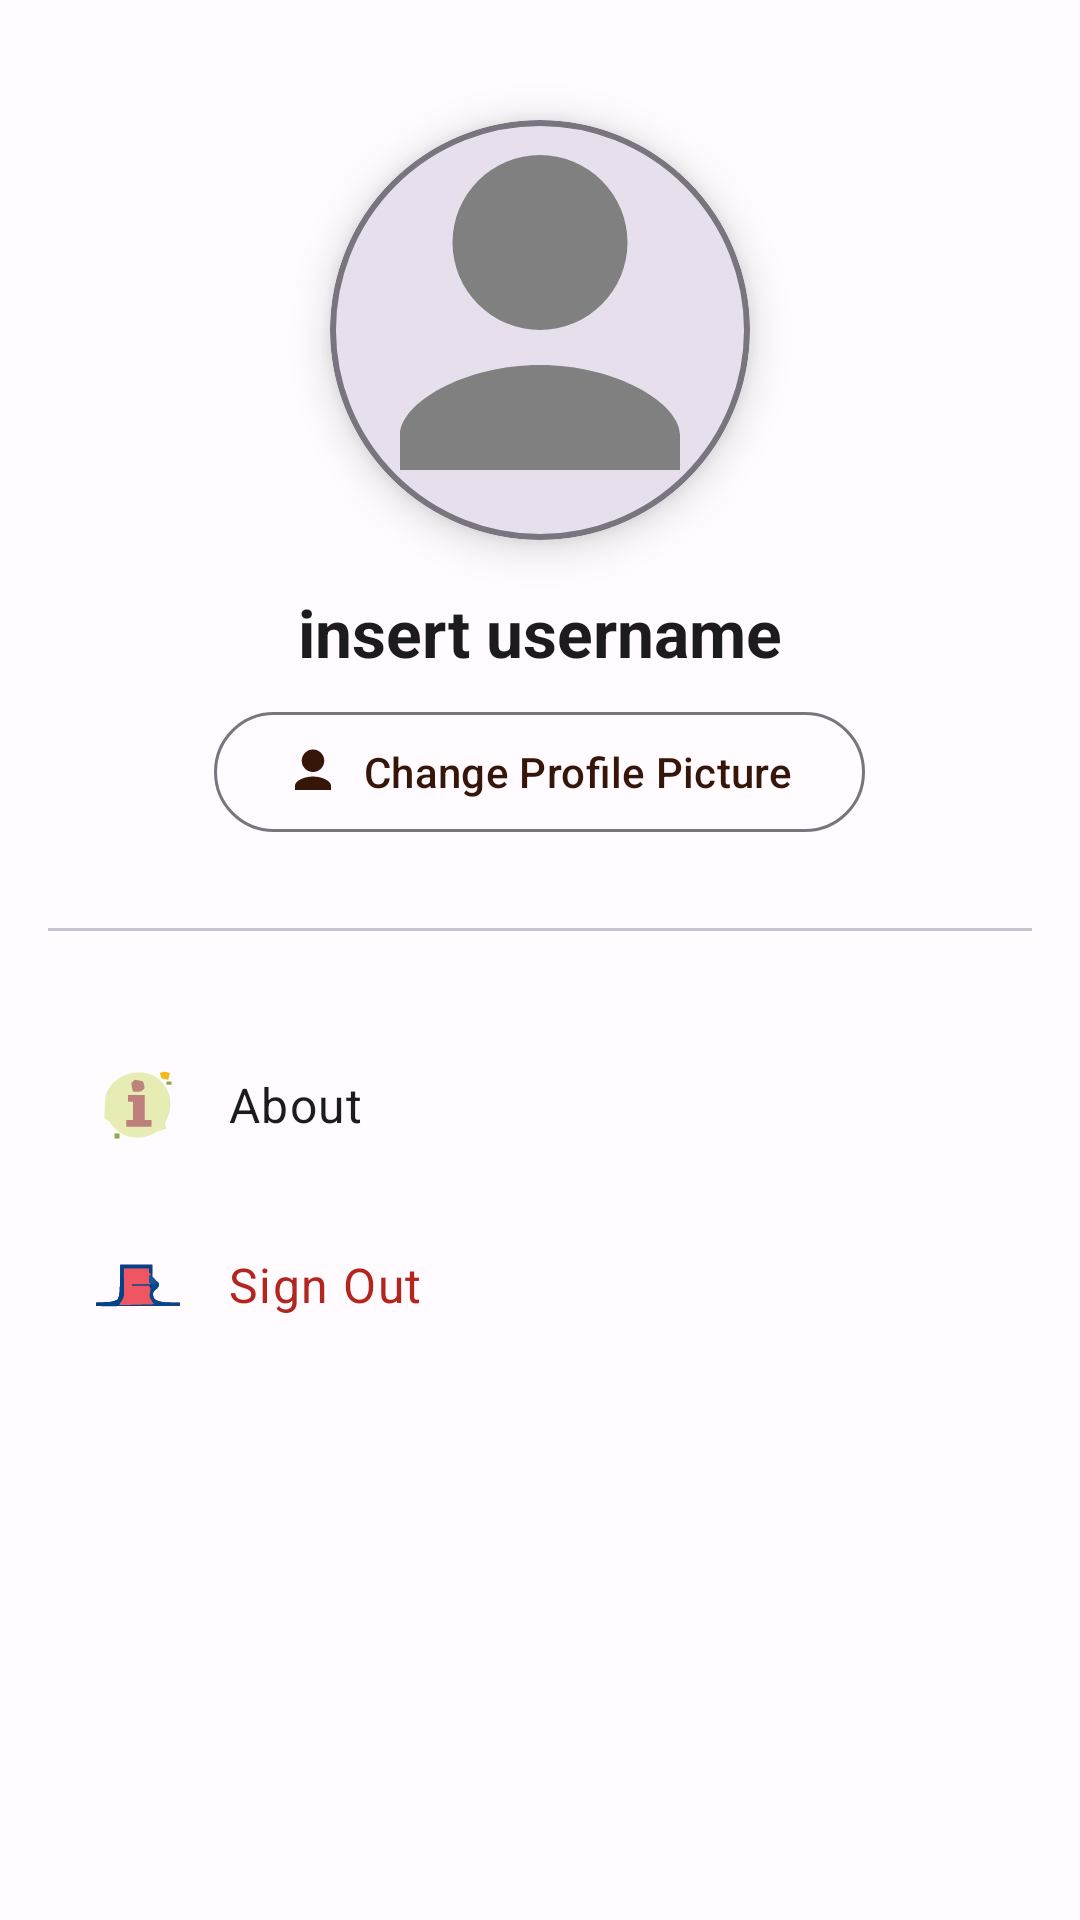

Icon click points for this 1080px x 1920px phone screenshot, format [x,y]:
info: [138,1105]
